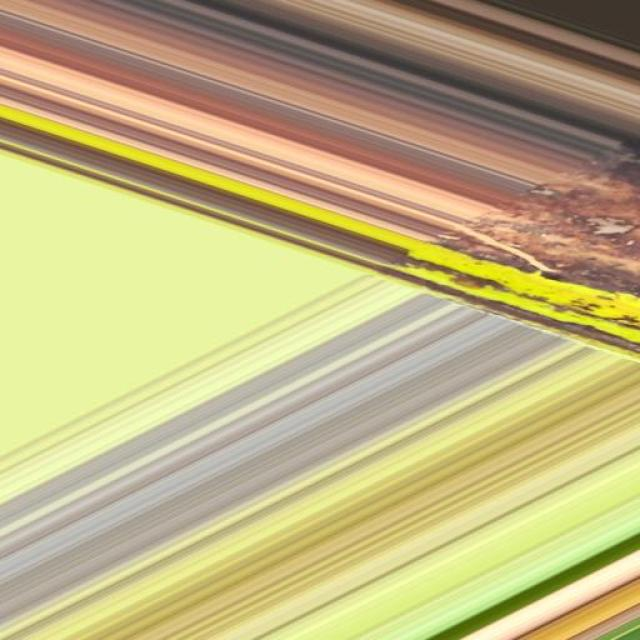Anthracnose: (217, 16, 640, 408)
